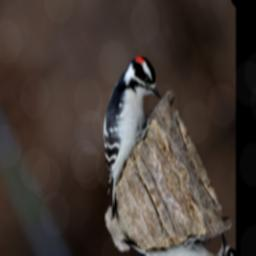Woodpecker: (63, 46, 194, 224)
